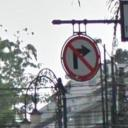NoVirarDireita: (62, 36, 98, 80)
